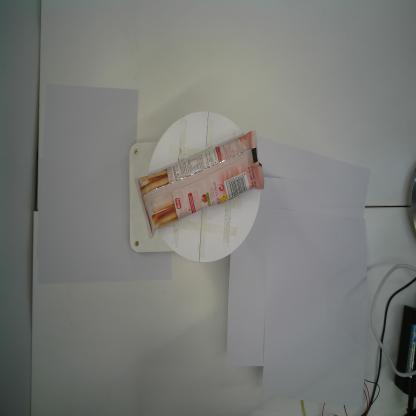Dessert: (133, 129, 267, 240)
